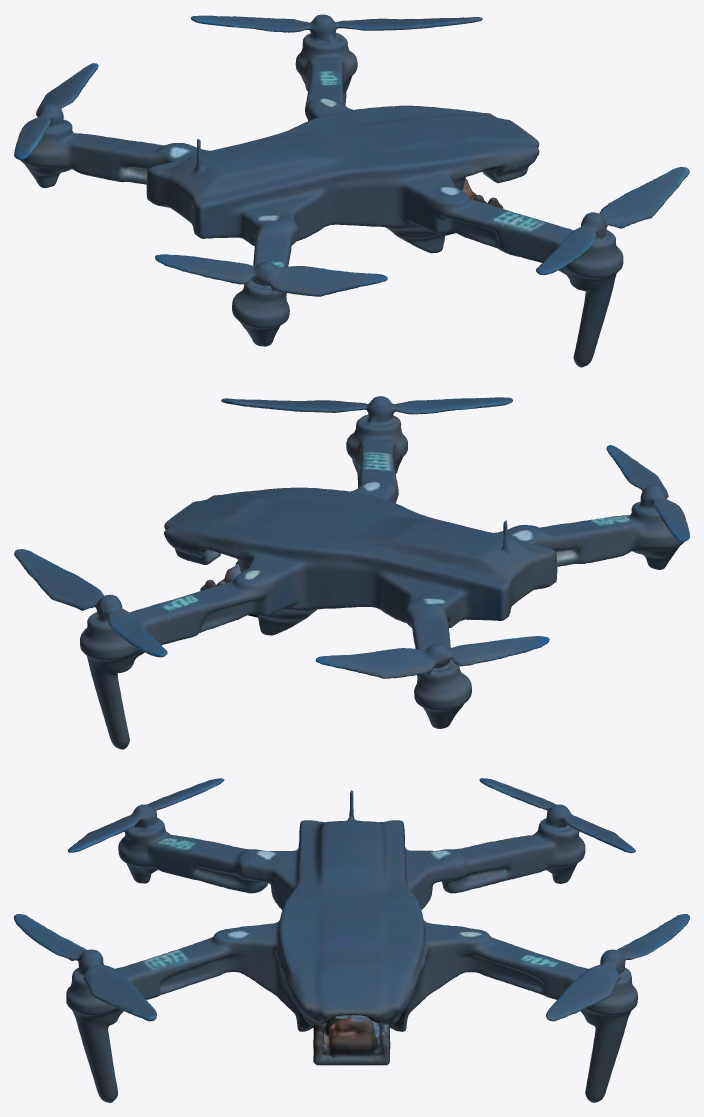
File: drone_draco.glb
3 renders of one model, top to bottom at view 1: azimuth 30°, elevation 25°; view 2: azimuth 150°, elevation 25°; view 3: azimuth 270°, elevation 25°, orthographic. The views are drawn at different scales.
Visible parts, largest first — view 1: tripo_node_c9f1f53e-ecbe-4866-9297-ae96dd2b16f1_0; view 2: tripo_node_c9f1f53e-ecbe-4866-9297-ae96dd2b16f1_0; view 3: tripo_node_c9f1f53e-ecbe-4866-9297-ae96dd2b16f1_0.
Part boxes in pixels (x1=…): tripo_node_c9f1f53e-ecbe-4866-9297-ae96dd2b16f1_0: x1=14, y1=14, x2=689, y2=367; tripo_node_c9f1f53e-ecbe-4866-9297-ae96dd2b16f1_0: x1=14, y1=396, x2=689, y2=749; tripo_node_c9f1f53e-ecbe-4866-9297-ae96dd2b16f1_0: x1=14, y1=778, x2=689, y2=1102.
Bounding box in the file's own units: 0.774 × 0.2957 × 0.9442.
1 material, 1 textured.
